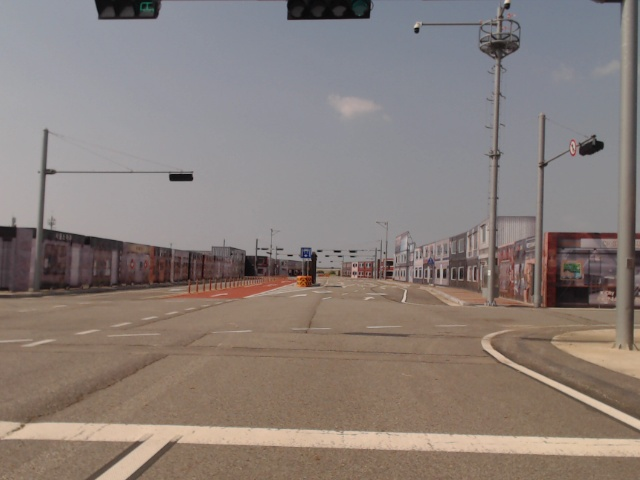straight_green_4: (286, 0, 371, 20)
